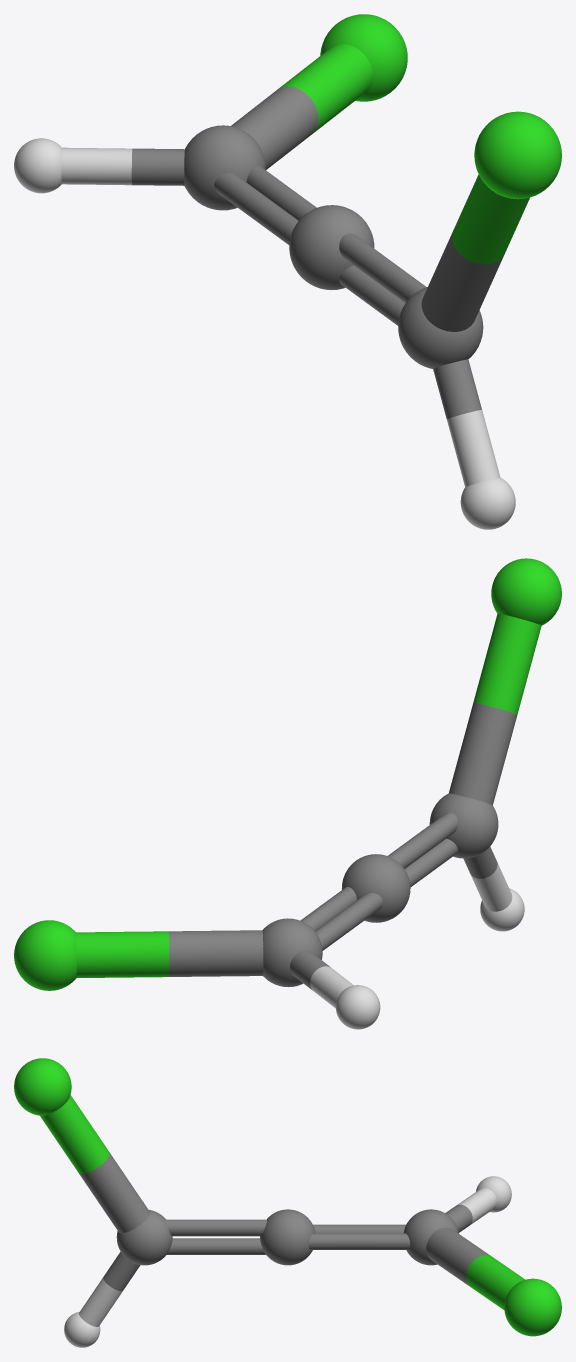
Rendered from S13DICHLOROPROPA12DIENE.MOL2.glb.
3 views of the same model, one above another, from view 1: azimuth 30°, elevation 25°; view 2: azimuth 150°, elevation 25°; view 3: azimuth 270°, elevation 25° (orthographic). The views are drawn at different scales.
Bounding box in the file's own units: 2.86 × 2.86 × 4.99.
